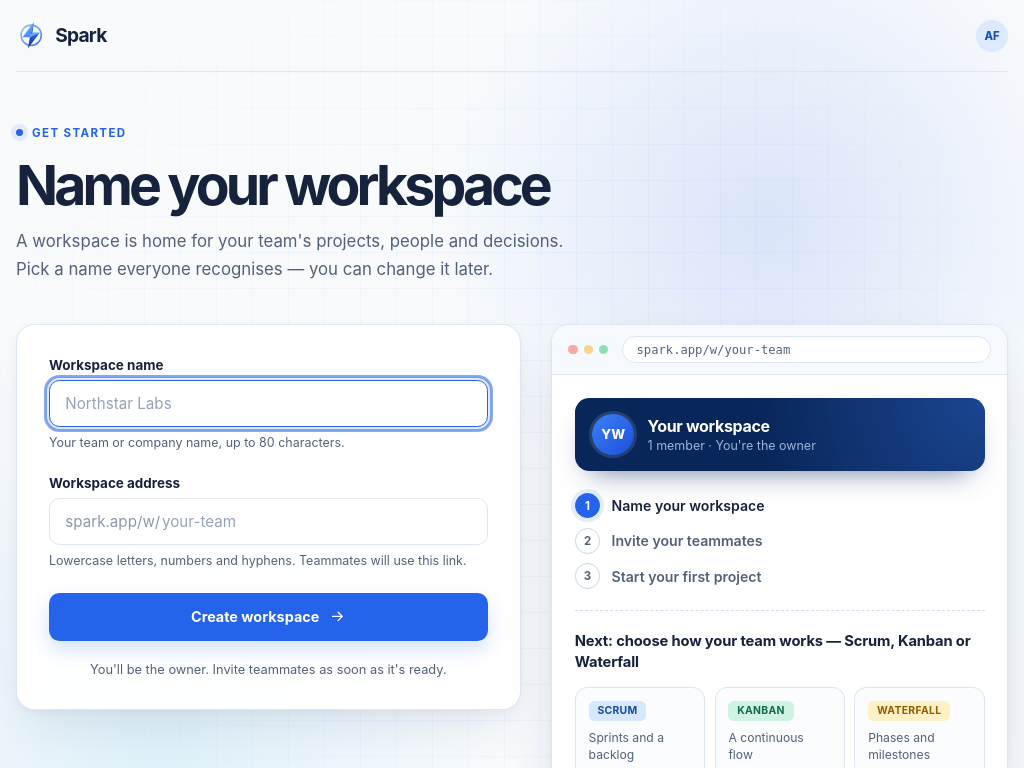
Test case: onboarding › shows an inline message on the address when the slug is taken
The image size is (1024, 768).
Type "Northstar Labs!" into the field labelled "Workspace name" at (268, 404), box [49,380,488,427]
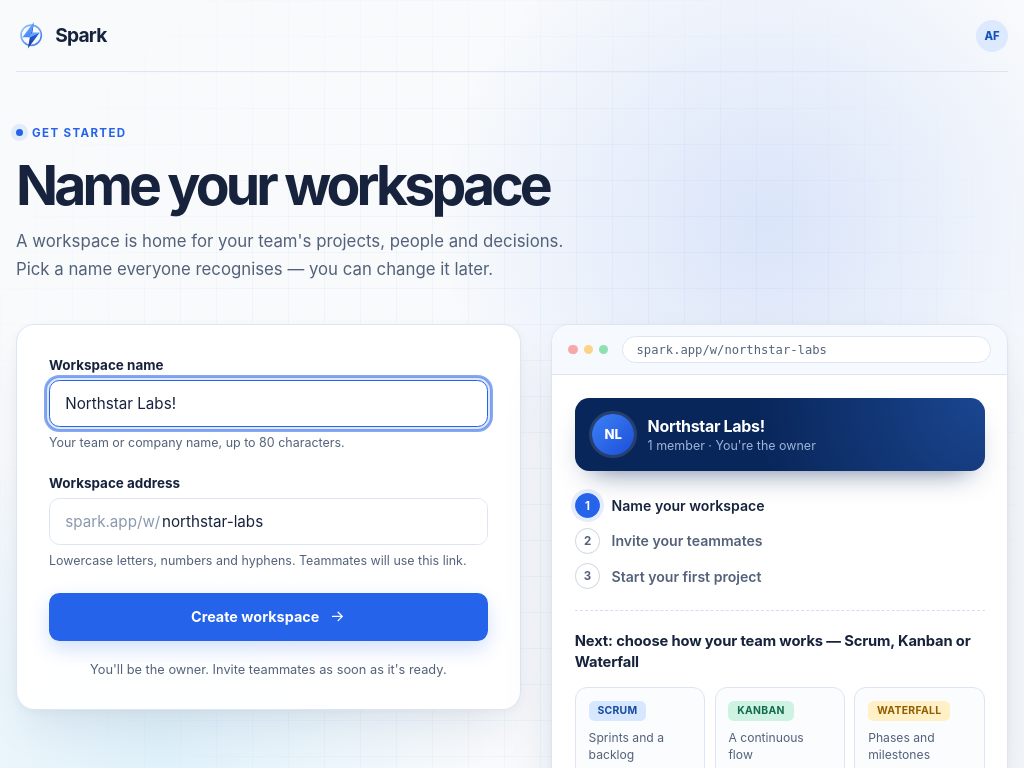
Click the button "Create workspace" at (268, 616), box [49,592,488,640]
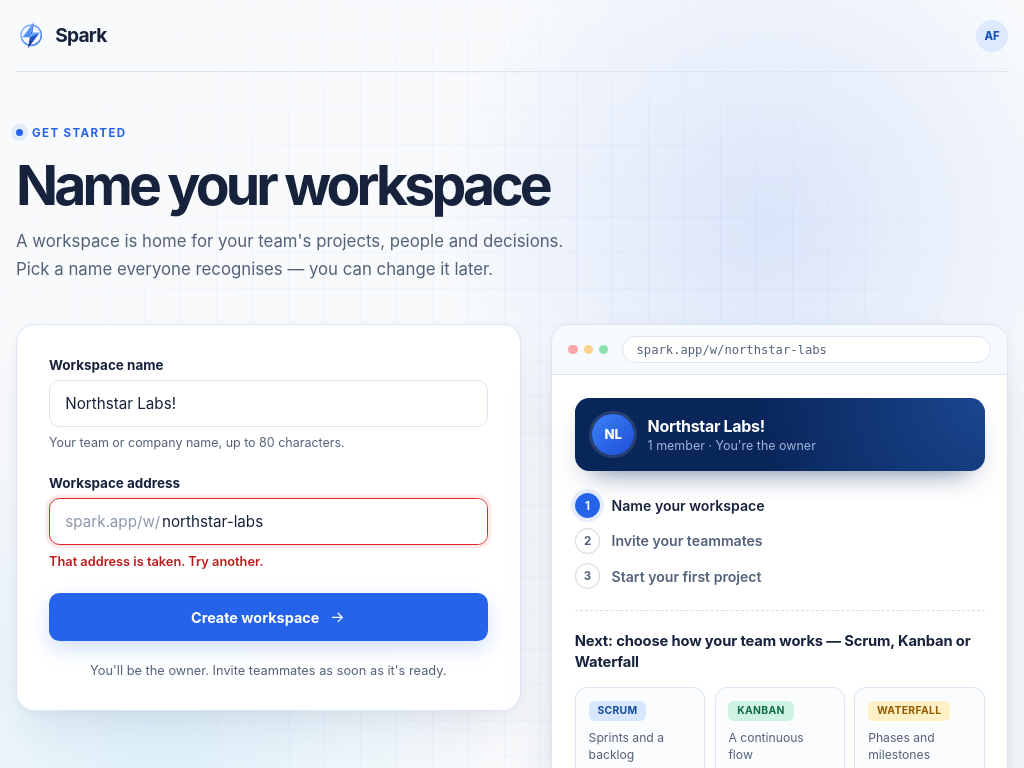
Check: the text "That address is taken. Try another." is shown, box [49,554,263,569]
